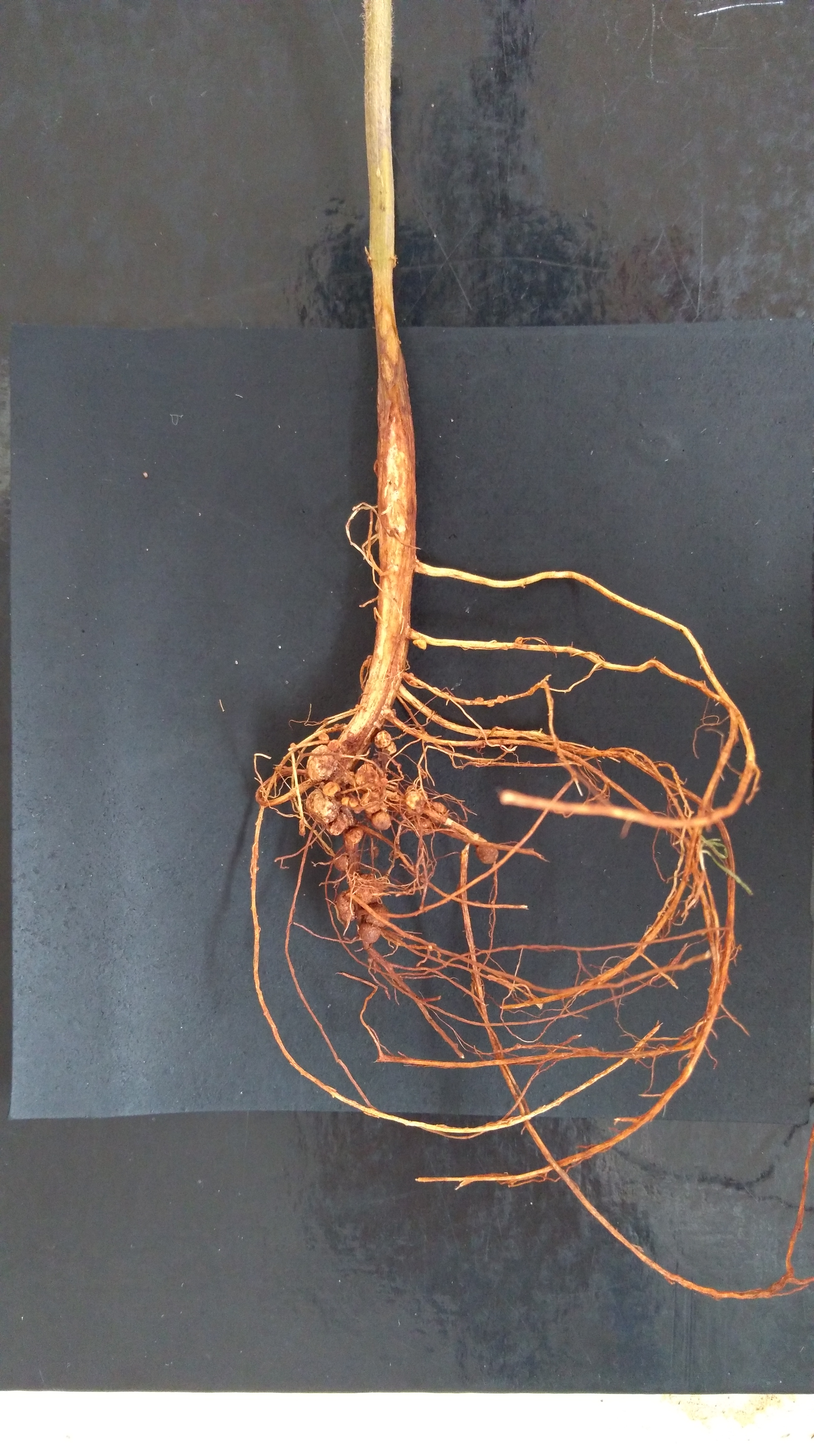nodule: (305, 788, 340, 823), (306, 745, 338, 781), (353, 873, 385, 903), (335, 888, 357, 923), (355, 764, 382, 792), (363, 901, 391, 928), (359, 922, 381, 944), (405, 790, 428, 811), (361, 791, 382, 814), (475, 844, 499, 864), (429, 801, 449, 824), (329, 812, 348, 836), (370, 811, 391, 830), (414, 817, 433, 837), (344, 826, 364, 844), (322, 780, 342, 797), (374, 730, 392, 748), (333, 852, 350, 871), (404, 671, 419, 688), (349, 796, 363, 814), (381, 741, 396, 754), (327, 739, 343, 751), (343, 771, 355, 784), (413, 639, 427, 650), (298, 817, 306, 836), (363, 654, 373, 668), (383, 708, 396, 718), (369, 845, 379, 858), (496, 694, 506, 704), (387, 564, 399, 572), (318, 732, 329, 740), (373, 720, 382, 729), (341, 796, 351, 804), (428, 942, 436, 952), (379, 778, 387, 787), (474, 696, 484, 703), (514, 637, 523, 644), (513, 1043, 522, 1050), (487, 701, 495, 708), (361, 702, 368, 710), (367, 957, 374, 963), (290, 743, 296, 748), (333, 723, 340, 727), (415, 558, 419, 563), (355, 703, 358, 707)
